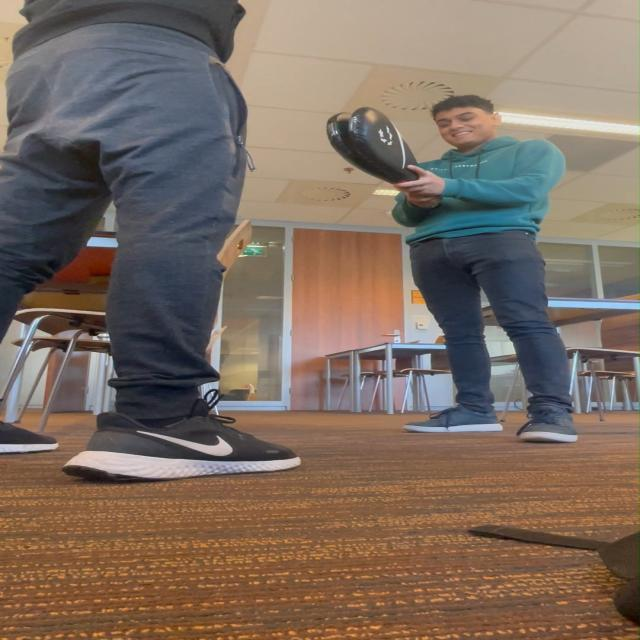paddle: (326, 110, 421, 179)
